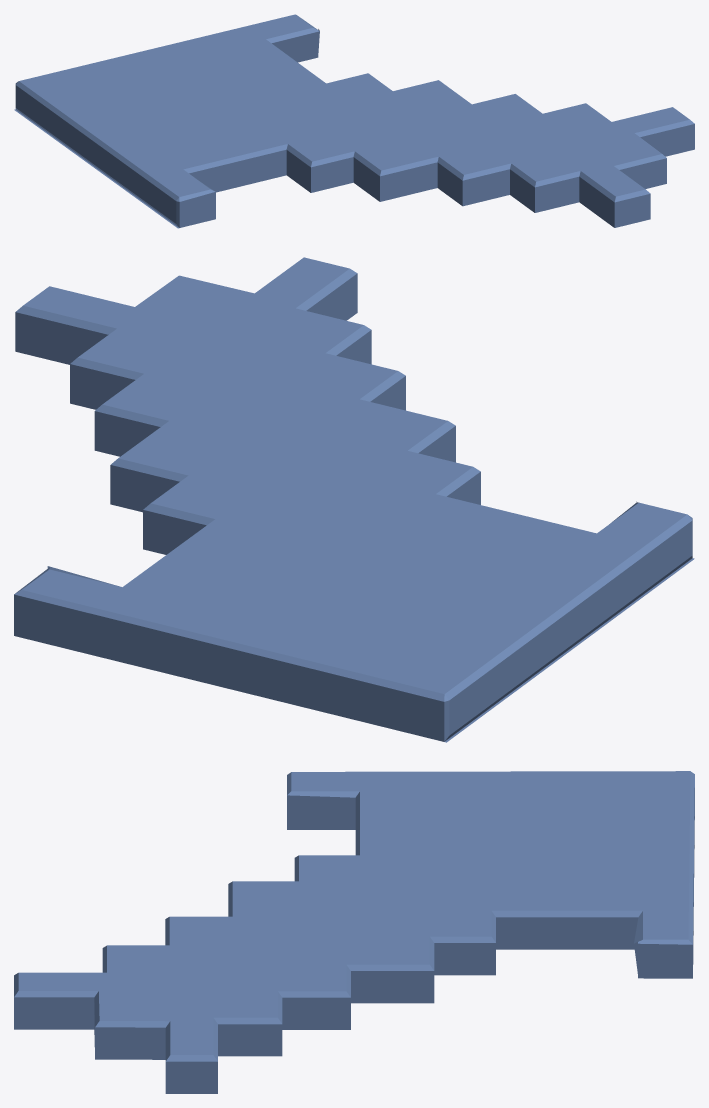
File: cursor.fbx
3 renders of one model, top to bottom at view 1: azimuth 30°, elevation 25°; view 2: azimuth 150°, elevation 25°; view 3: azimuth 270°, elevation 25°, orthographic. The views are drawn at different scales.
Visible parts, largest first — view 1: GP_Layer; view 2: GP_Layer; view 3: GP_Layer.
Boxes of the visible parts, <box> form: GP_Layer: <box>14,14,694,228</box>; GP_Layer: <box>14,257,694,742</box>; GP_Layer: <box>14,771,694,1093</box>.
Bounding box in the file's own units: 197 × 11.78 × 197.
